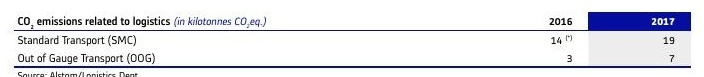table: (0, 0, 704, 77)
